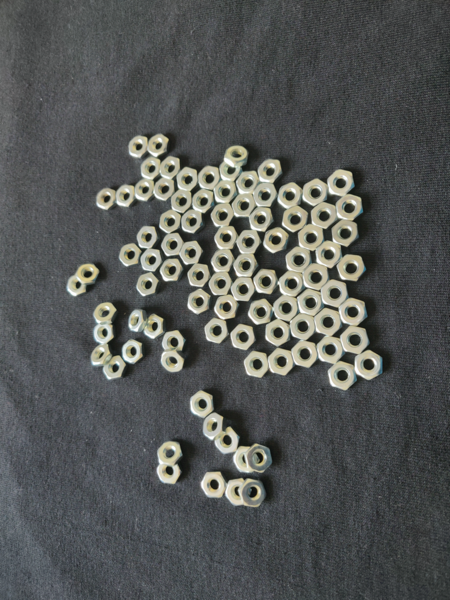nut: (354, 349, 386, 381), (328, 362, 356, 394), (302, 263, 331, 292), (268, 346, 295, 377), (292, 338, 319, 369), (239, 480, 268, 508), (190, 389, 218, 418), (341, 326, 371, 353), (315, 307, 341, 338), (215, 426, 240, 458), (244, 445, 273, 472), (201, 473, 228, 502), (298, 224, 326, 251), (265, 319, 289, 350), (343, 298, 370, 325), (233, 447, 259, 475), (159, 327, 187, 353), (248, 299, 274, 327), (282, 207, 310, 233), (245, 352, 270, 381), (319, 336, 343, 366), (316, 242, 343, 268), (332, 220, 359, 246), (197, 164, 224, 190), (291, 313, 316, 341), (338, 257, 367, 281), (328, 170, 354, 196), (278, 183, 304, 209), (231, 323, 256, 350), (262, 229, 289, 254), (299, 289, 324, 316), (336, 195, 363, 220), (156, 210, 182, 235), (254, 269, 279, 295), (273, 294, 298, 320), (322, 281, 348, 306), (237, 230, 263, 255), (203, 414, 227, 441), (157, 462, 184, 486), (90, 322, 117, 346), (187, 290, 214, 314), (231, 254, 258, 278), (226, 477, 248, 506), (91, 300, 120, 322), (156, 443, 186, 464), (206, 319, 230, 345), (207, 272, 233, 296), (254, 183, 280, 207), (162, 350, 189, 373), (143, 312, 166, 339), (89, 344, 113, 369), (153, 177, 177, 202), (214, 296, 239, 320), (210, 249, 235, 273), (280, 271, 305, 295), (302, 179, 327, 203), (235, 171, 260, 195), (134, 273, 160, 296), (160, 233, 186, 256), (102, 355, 126, 379), (135, 226, 159, 250), (212, 203, 236, 227), (139, 248, 164, 271), (148, 135, 171, 160), (187, 264, 212, 287), (230, 279, 255, 302), (286, 248, 311, 271), (249, 209, 274, 232), (213, 180, 238, 203), (181, 240, 203, 266), (169, 190, 195, 212), (75, 261, 99, 284), (160, 258, 184, 281), (94, 186, 116, 211), (314, 202, 336, 227), (258, 160, 283, 182), (180, 210, 206, 231), (175, 168, 198, 191), (264, 230, 287, 253), (123, 340, 145, 364), (119, 242, 141, 266), (232, 196, 256, 218), (215, 227, 240, 248), (159, 156, 181, 179), (124, 309, 146, 331), (67, 274, 89, 296), (138, 159, 161, 180), (127, 308, 146, 333), (117, 184, 136, 209), (225, 146, 250, 165), (134, 180, 155, 202), (128, 136, 149, 157), (221, 161, 243, 181)
